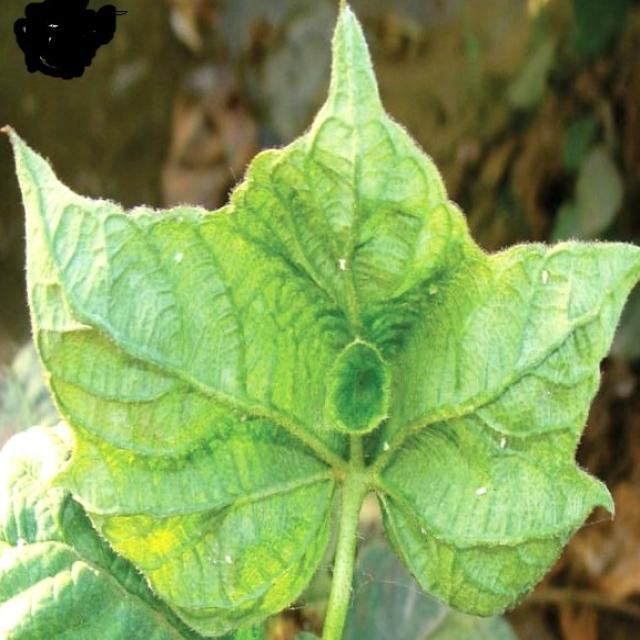Leaf Curl Virus: (87, 191, 500, 498)
